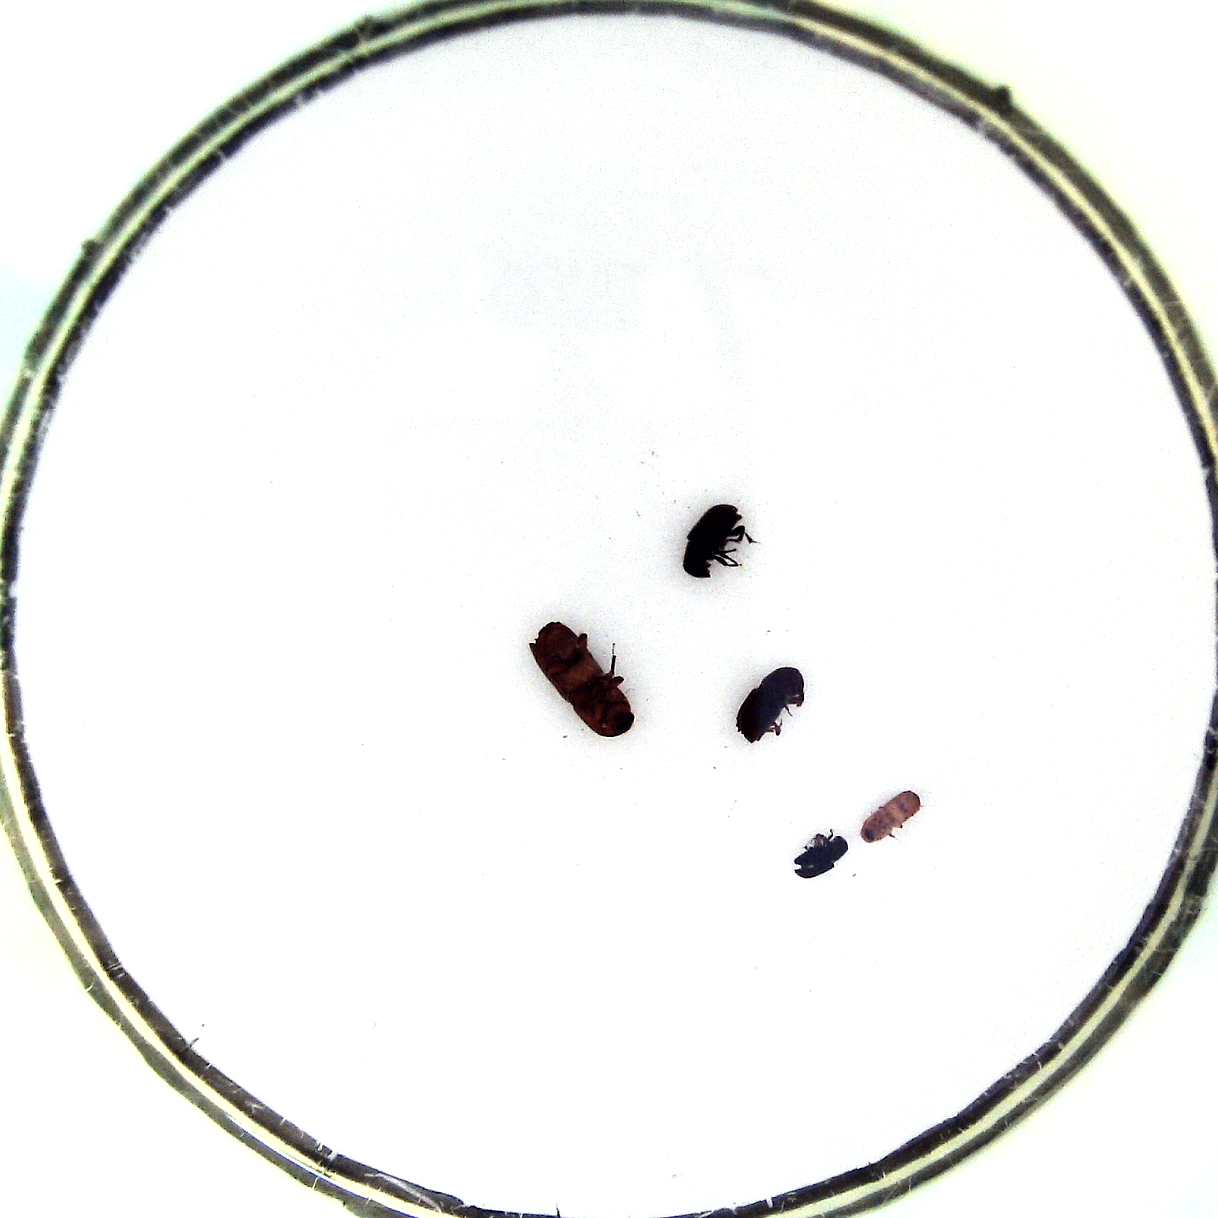Boerner: (526, 619, 638, 741)
Linnaeus: (733, 663, 811, 750)
acuminatus: (855, 791, 921, 849)
armandi: (670, 497, 756, 584)
coleoptera: (789, 829, 849, 884)
